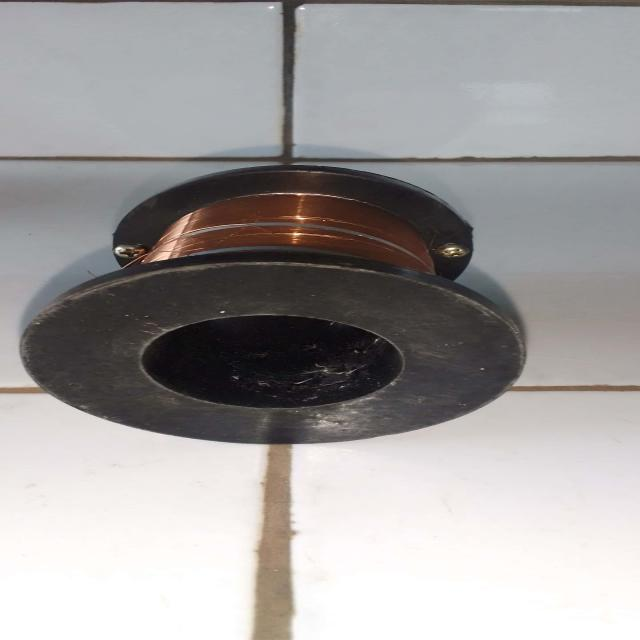Solenoid: (8, 143, 604, 479)
